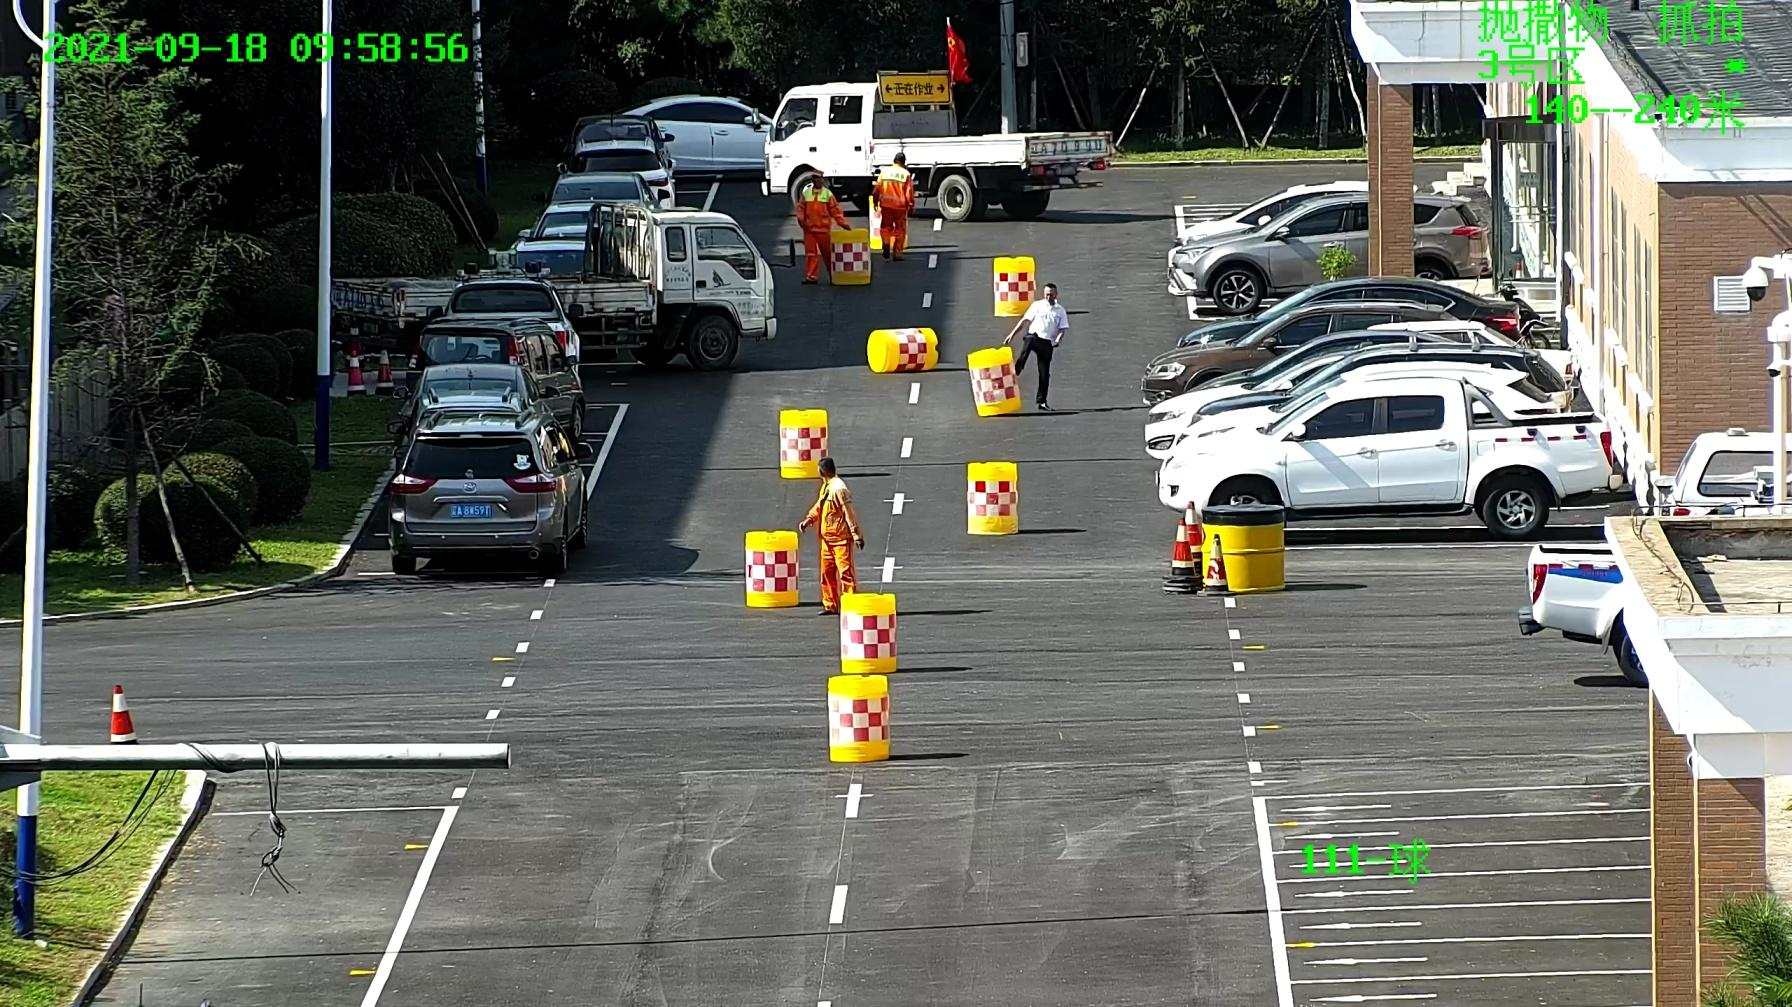cone_barrel: (827, 673, 890, 764), (838, 592, 895, 673), (743, 533, 799, 611), (965, 346, 1019, 417), (966, 462, 1017, 536), (775, 411, 825, 481), (866, 327, 933, 372), (994, 255, 1035, 316), (866, 195, 910, 249), (825, 230, 866, 286)
